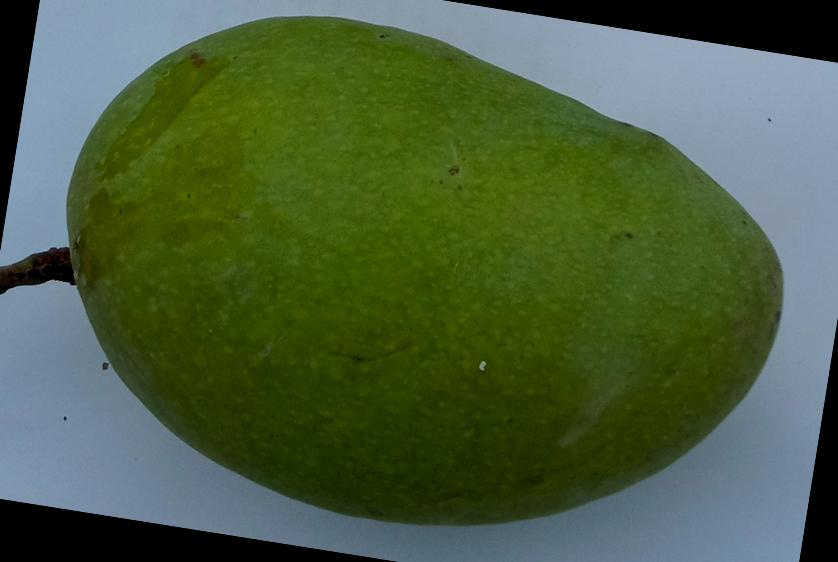Mango Unripe: (3, 0, 838, 562)
